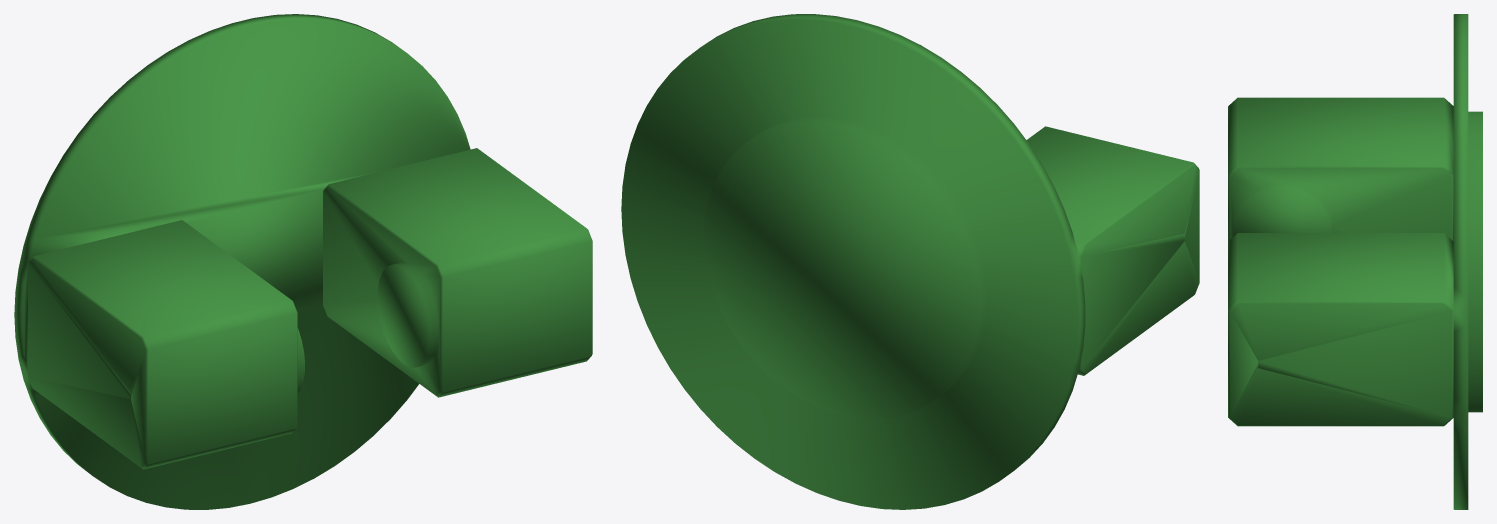
File: wx200_2_shoulder.obj
3 views of the same model, side by side, from view 1: azimuth 30°, elevation 25°; view 2: azimuth 150°, elevation 25°; view 3: azimuth 270°, elevation 25° (orthographic). The views are drawn at different scales.
Size of the model in its own units: 102 by 102 by 52.5.
